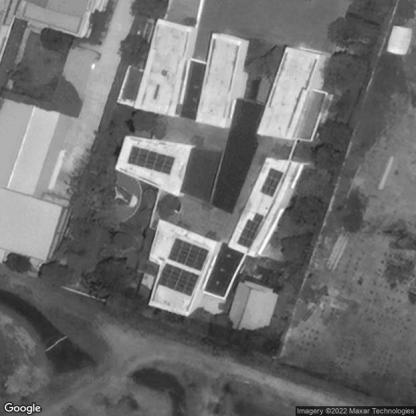solar-pv-panel: (168, 238, 209, 271), (127, 145, 177, 172), (159, 264, 199, 295), (238, 213, 265, 248), (262, 168, 284, 198)
